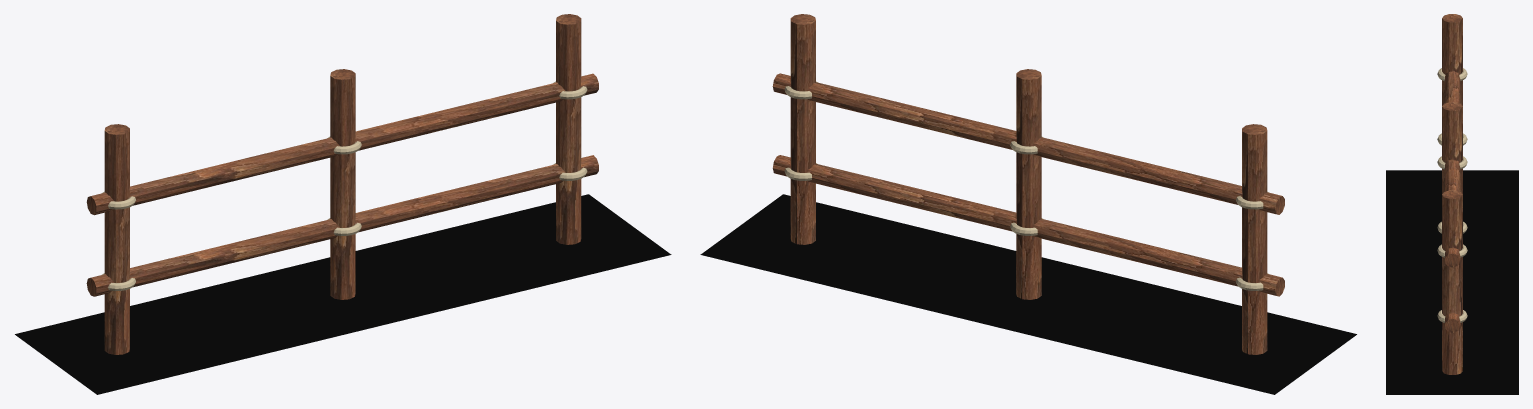
File: fence.glb
The picture shows the model from 3 angles, left to right: view 1: azimuth 30°, elevation 25°; view 2: azimuth 150°, elevation 25°; view 3: azimuth 270°, elevation 25°; orthographic projection. The views are drawn at different scales.
Parts seen in each view (by area): view 1: ContactShadow, rail, rail.001, post.002, post, post.001; view 2: ContactShadow, rail.001, rail, post.001, post.002, post; view 3: ContactShadow, post.002, post.001, post, rail, rail.001, lash, lash.001, lash.003, lash.005.
Boxes of the visible parts, x1,y1,x2,y2 form: ContactShadow: (15, 194, 671, 394); rail: (86, 73, 598, 215); rail.001: (86, 155, 598, 296); post.002: (556, 14, 581, 244); post: (104, 124, 129, 354); post.001: (330, 69, 355, 299); ContactShadow: (700, 194, 1356, 394); rail.001: (772, 155, 1284, 296); rail: (772, 73, 1284, 214); post.001: (1016, 69, 1041, 299); post.002: (790, 14, 815, 244); post: (1242, 124, 1267, 354); ContactShadow: (1386, 170, 1518, 394); post.002: (1442, 190, 1462, 374); post.001: (1442, 102, 1462, 194); post: (1442, 14, 1462, 105); rail: (1445, 71, 1460, 267); rail.001: (1445, 313, 1460, 332); lash: (1437, 310, 1467, 322); lash.001: (1437, 68, 1467, 81); lash.003: (1437, 156, 1467, 169); lash.005: (1437, 244, 1467, 257).
Bounding box in the file's own units: 2.8 × 1.05 × 0.7.
Materials: 3 (2 with a texture image).
